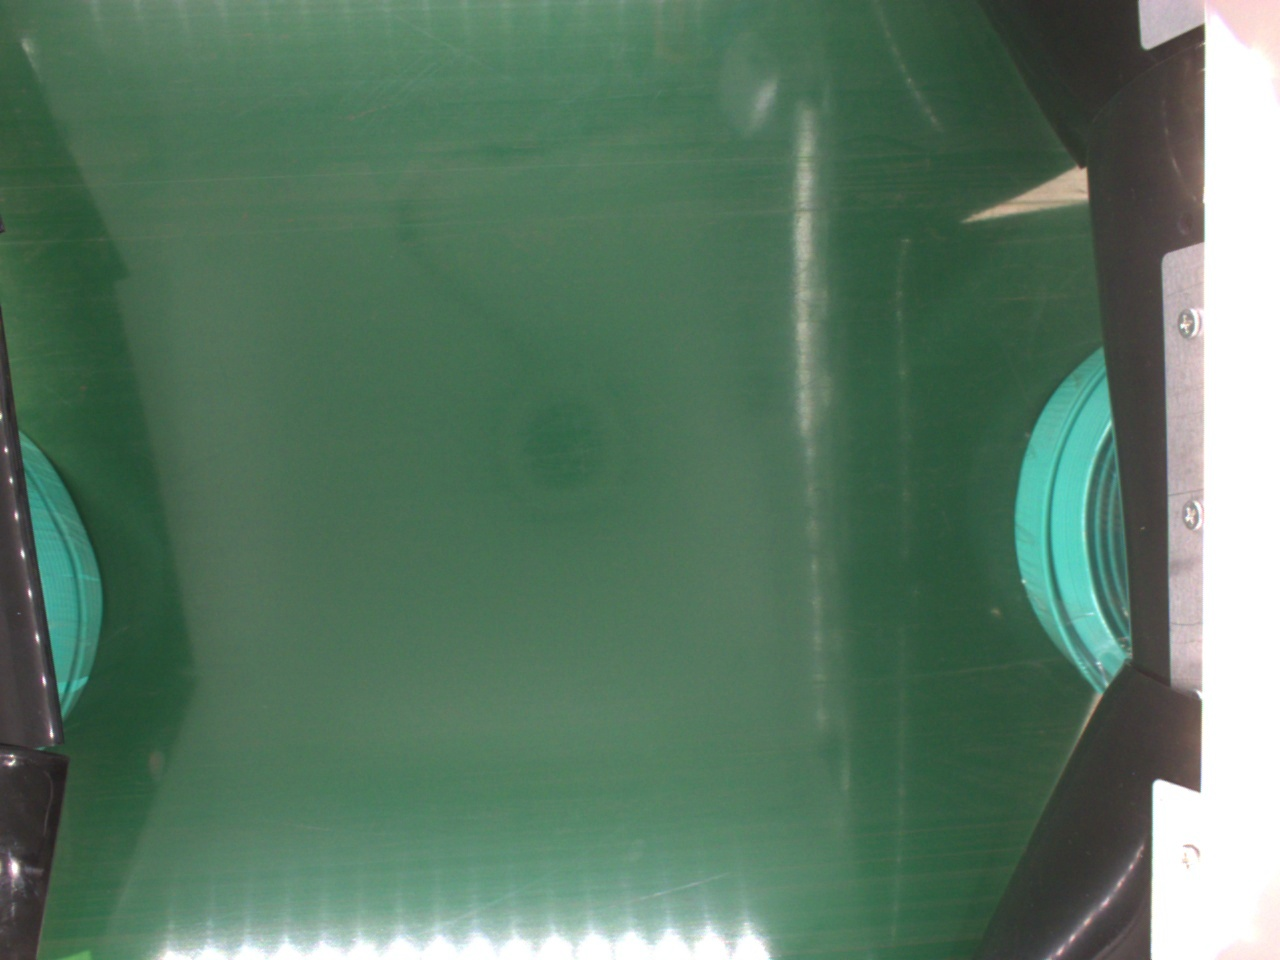green: (1011, 347, 1141, 675)
